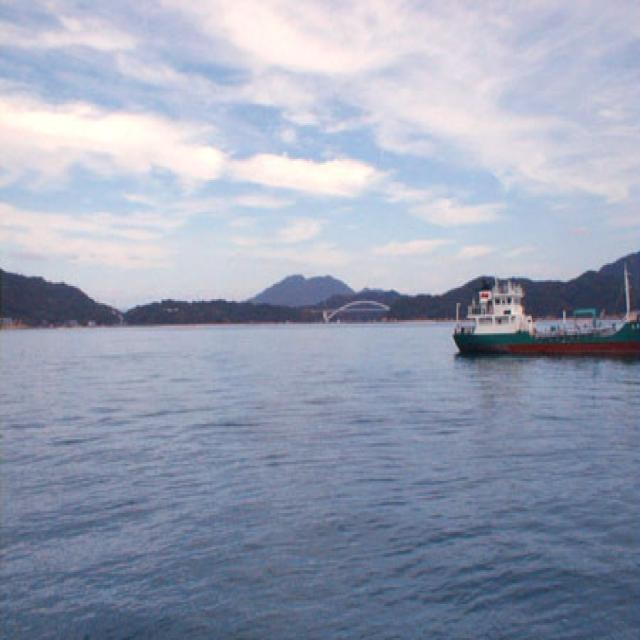fishing boat: (449, 276, 640, 356)
